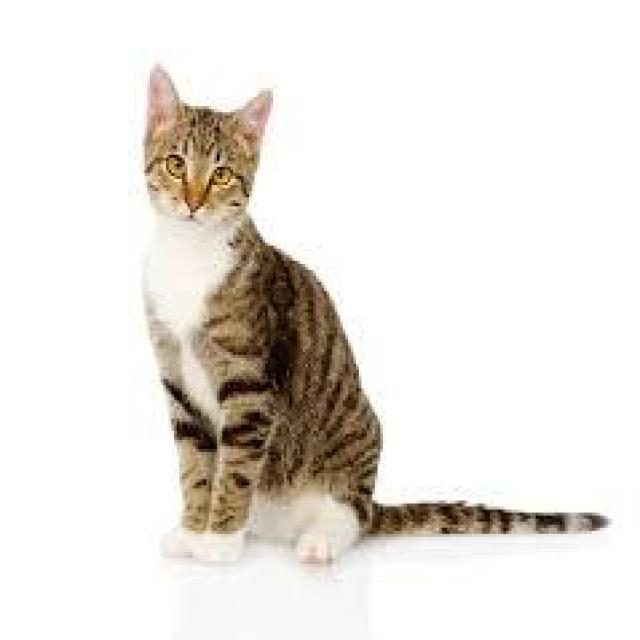Cat: (134, 52, 279, 232)
